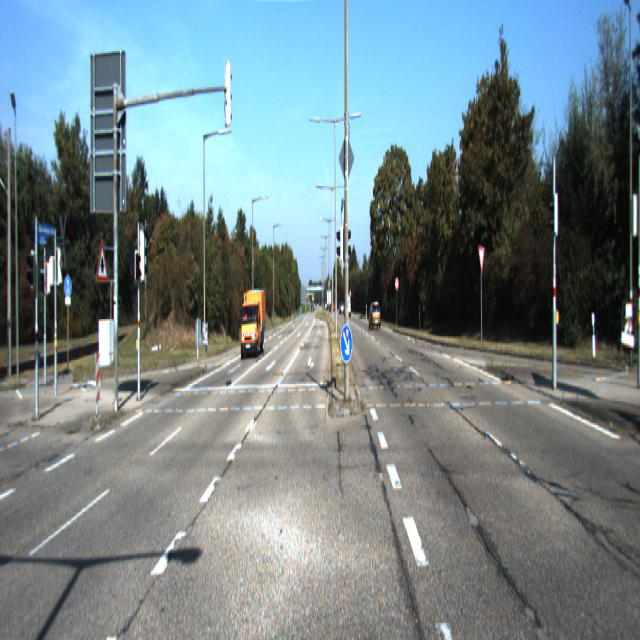Car: (236, 286, 266, 361), (371, 300, 382, 328)
